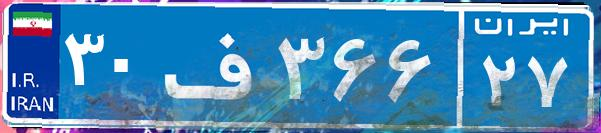0: (110, 28, 158, 105)
2: (475, 38, 525, 113)
3: (273, 28, 330, 110), (57, 26, 110, 107)
6: (385, 28, 445, 110), (330, 28, 385, 110)
7: (525, 38, 570, 115)
ف: (158, 15, 273, 115)
